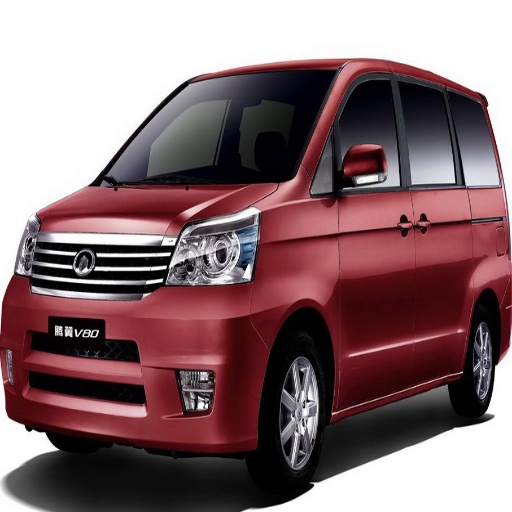front_bumper: (0, 218, 285, 455)
front_glass: (92, 70, 340, 185)
front_left_door: (313, 76, 417, 385)
trunk: (469, 230, 509, 309)
